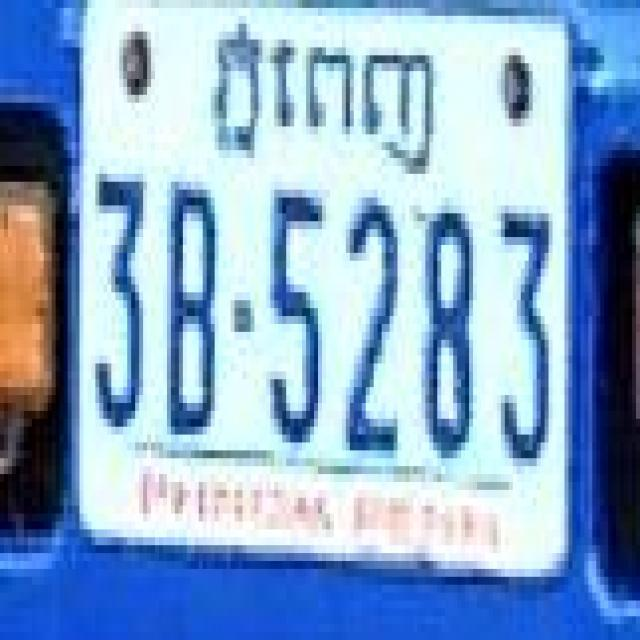Phnom_Penh: (215, 16, 437, 172)
